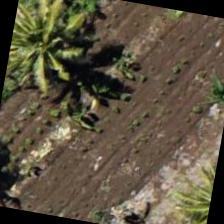Kelapa_Sawit: (159, 21, 223, 122)
